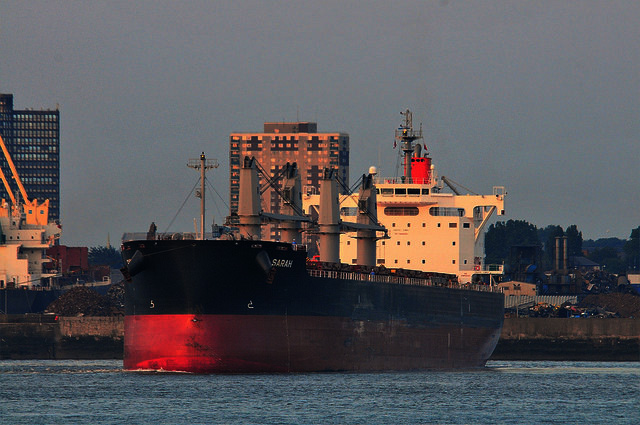bulk carrier: (116, 113, 509, 373)
